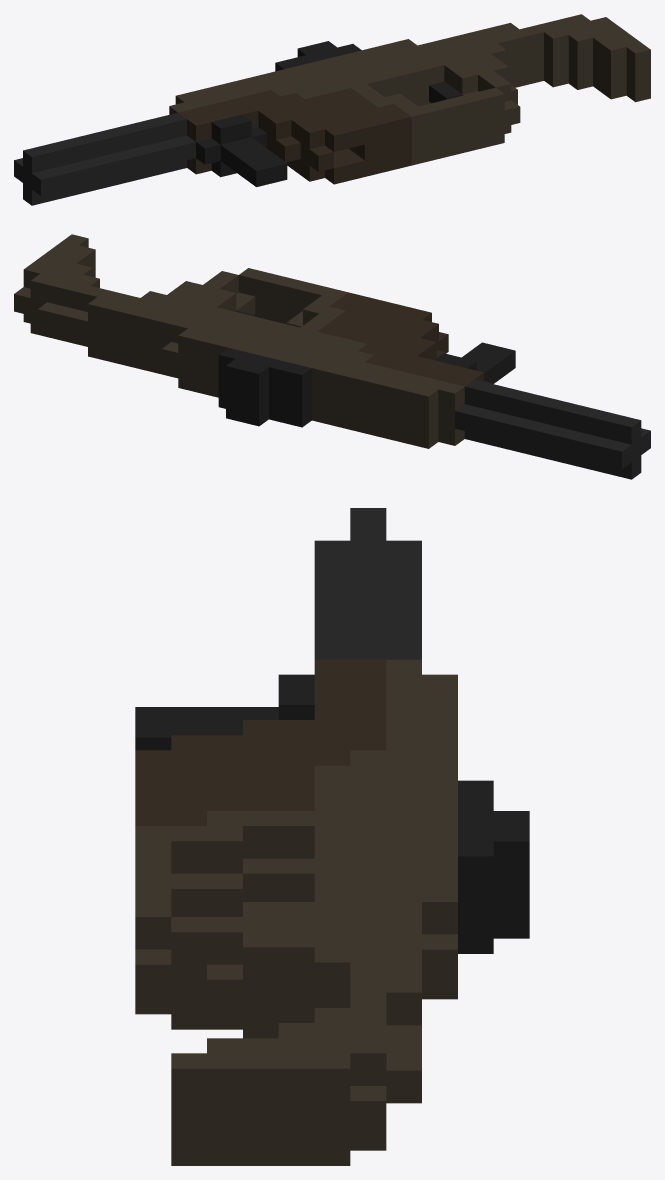
Rendered from kriss2.obj.
3 views of the same model, one above another, from view 1: azimuth 30°, elevation 25°; view 2: azimuth 150°, elevation 25°; view 3: azimuth 270°, elevation 25° (orthographic). The views are drawn at different scales.
Bounding box in the file's own units: 3.7 × 0.3 × 1.1.
Materials: 1 (1 with a texture image).
